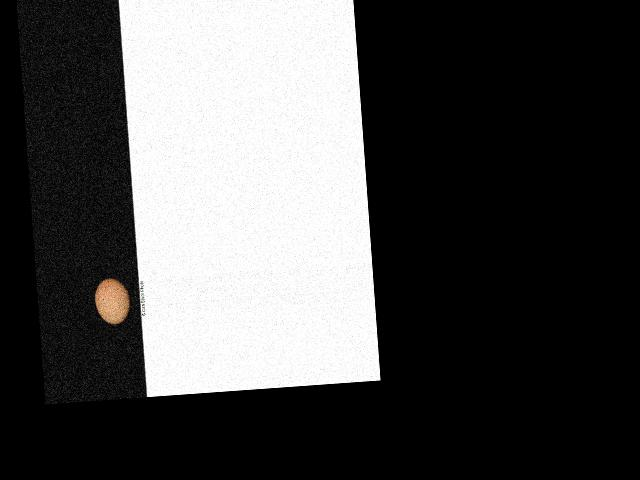egg: (94, 277, 132, 325)
